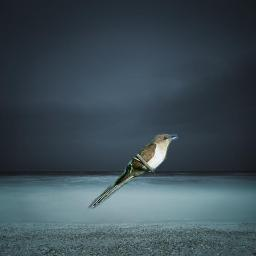Cuckoo: (87, 133, 180, 212)
